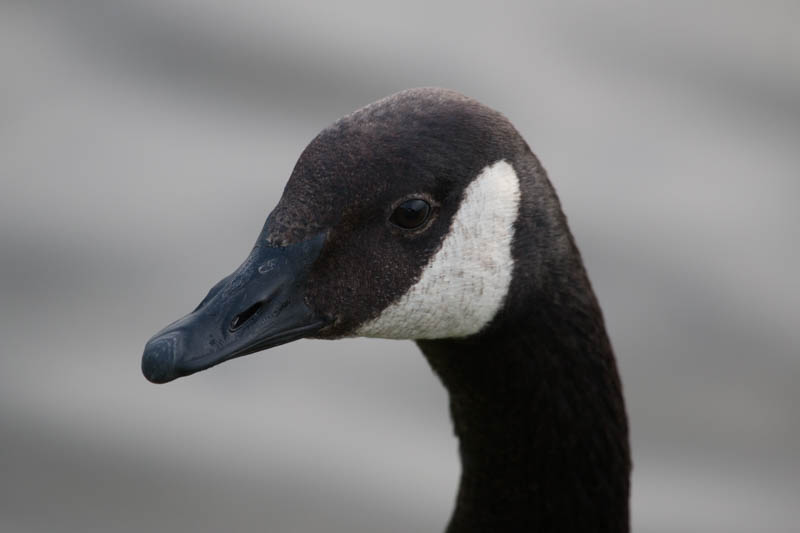goose-head: (141, 88, 574, 386)
